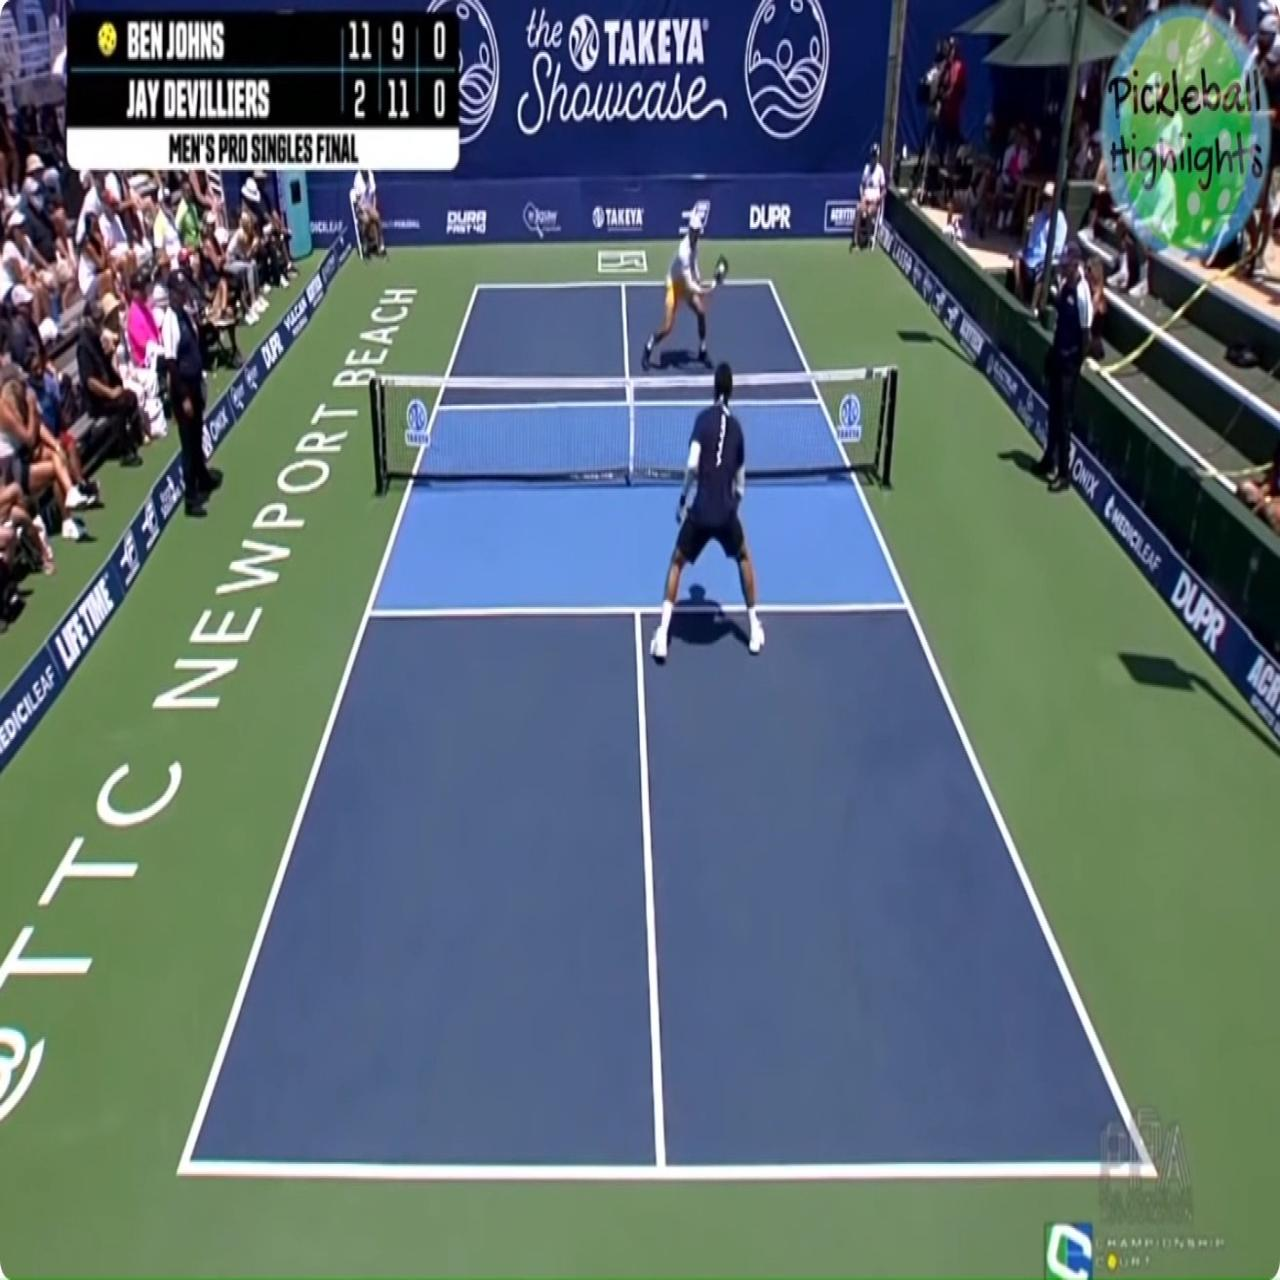pickleball: (719, 263, 724, 273)
